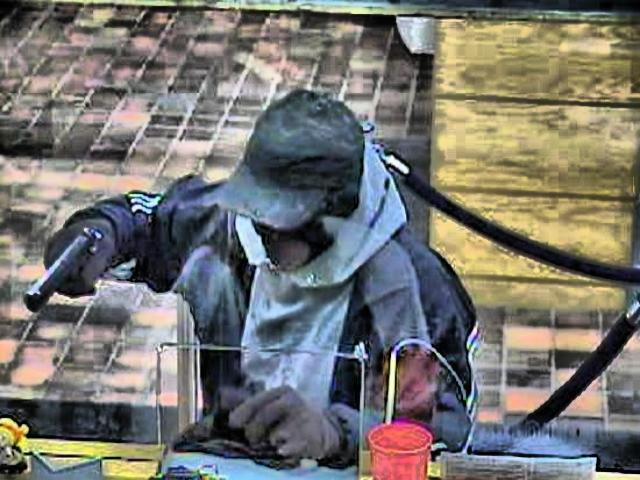pistol: (24, 224, 100, 312)
